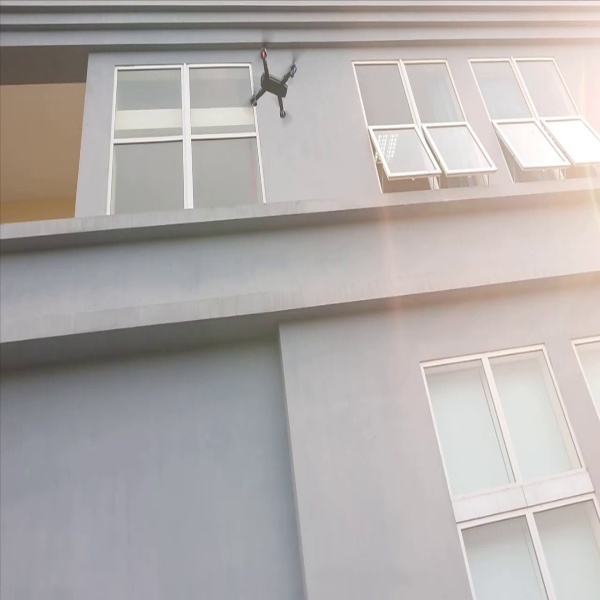drone: (238, 28, 308, 131)
